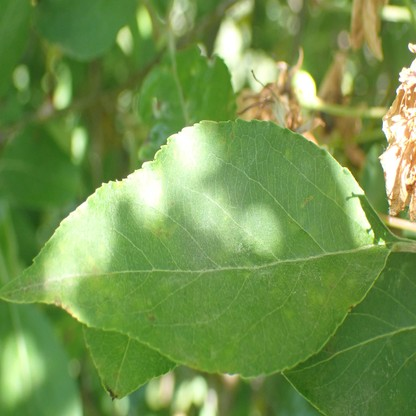powdery_mildew: (318, 391, 374, 416)
scab: (89, 278, 142, 321), (217, 123, 238, 159), (7, 277, 32, 298), (53, 295, 71, 315), (152, 224, 172, 239), (310, 292, 327, 307), (325, 276, 338, 294), (290, 219, 305, 234), (146, 312, 156, 323), (345, 277, 355, 288), (91, 262, 100, 274), (283, 150, 291, 160)
